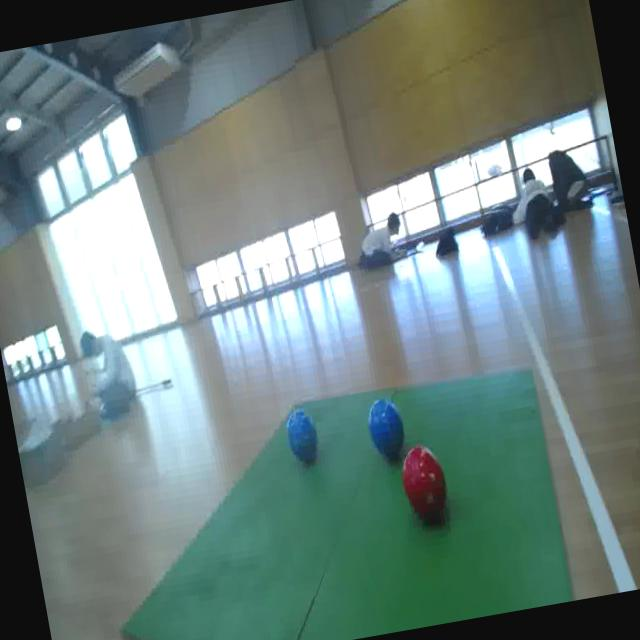blue_ball: (361, 391, 412, 464), (284, 408, 322, 467)
red_ball: (392, 433, 454, 530)
